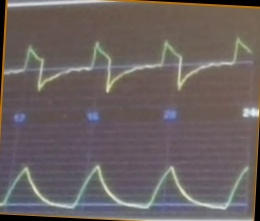Normal Flow: (5, 35, 253, 95)
Normal Volume: (2, 155, 248, 213)
